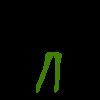jeans: (35, 52, 62, 93)
